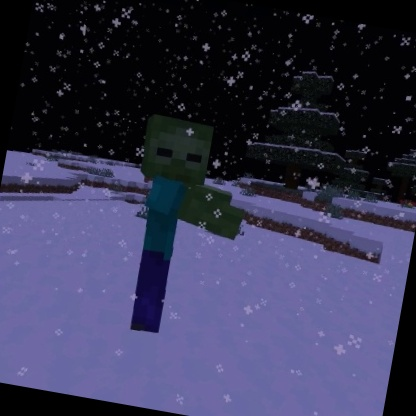zombie: (104, 106, 265, 353)
